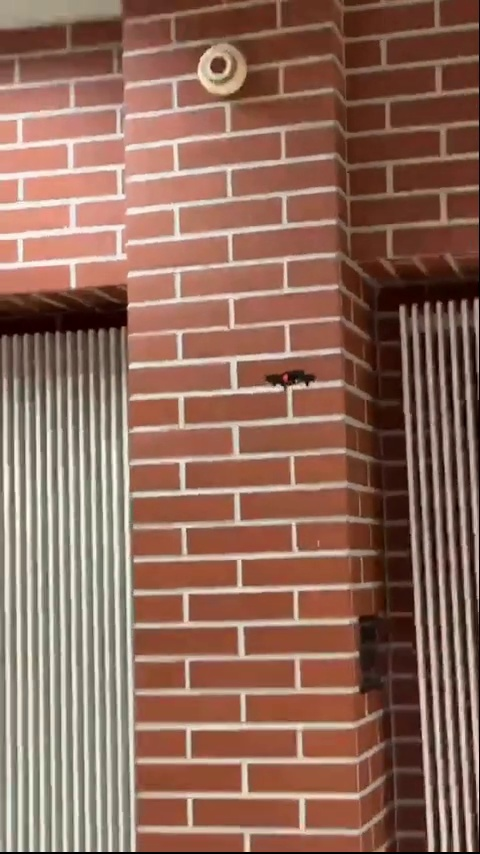drone: (263, 365, 314, 392)
